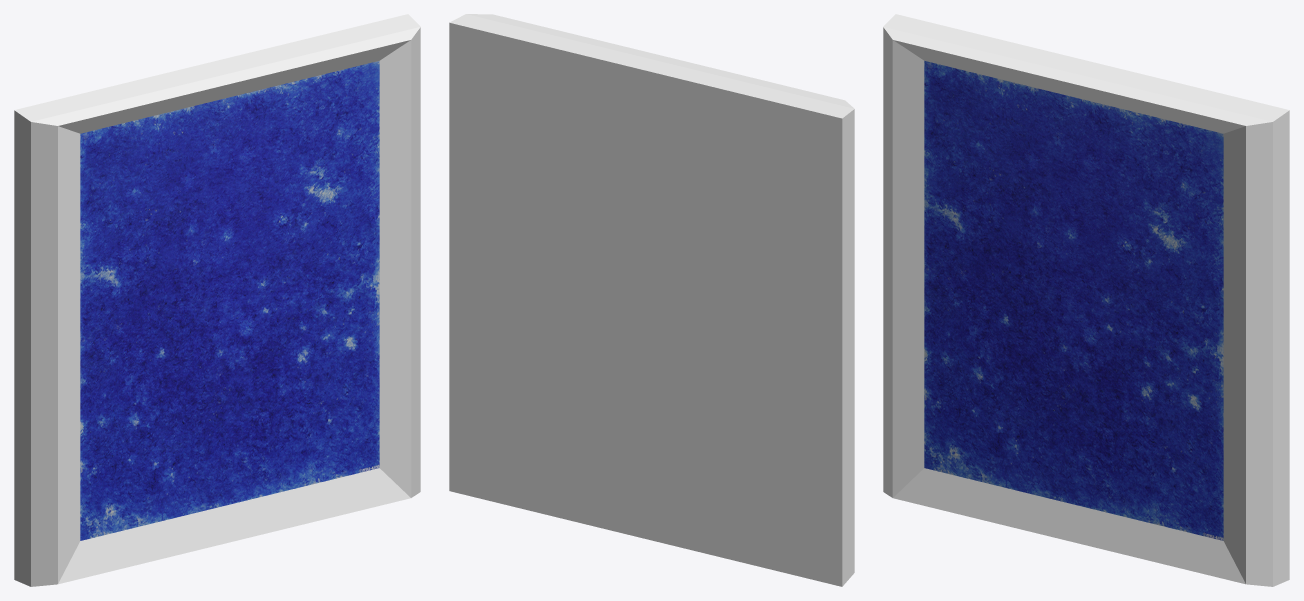
Rendered from frame8.FBX.
3 renders of one model, left to right at view 1: azimuth 30°, elevation 25°; view 2: azimuth 150°, elevation 25°; view 3: azimuth 330°, elevation 25°, orthographic.
Visible parts, largest first — view 1: frame002; view 2: frame002; view 3: frame002.
Boxes of the visible parts, x1,y1,x2,y2 form: frame002: (14,14,420,586); frame002: (449,14,854,586); frame002: (883,14,1289,586).
Bounding box in the file's own units: 82.46 × 93.9 × 8.46.
1 material, 1 textured.
